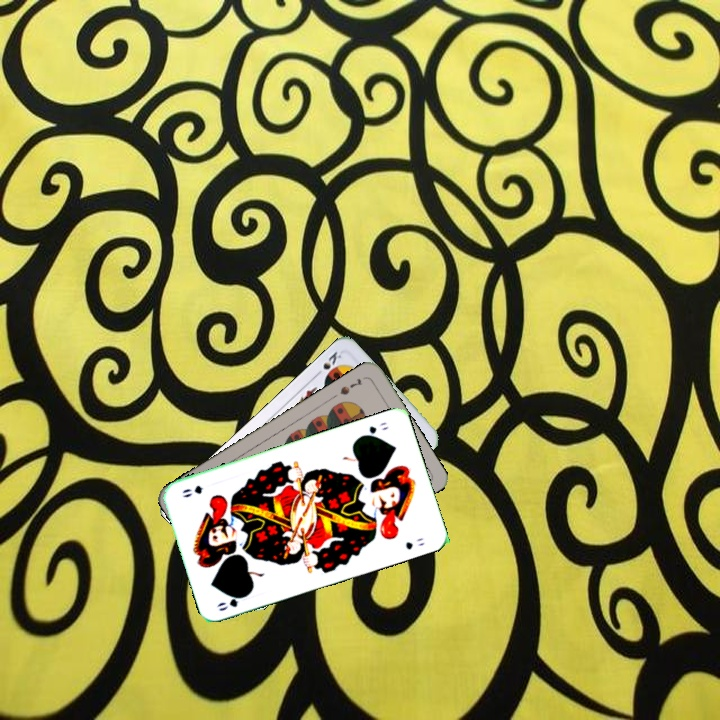GO: (213, 589, 252, 614), (356, 418, 391, 440)
S7: (336, 374, 365, 398)
SK: (311, 347, 344, 380)
